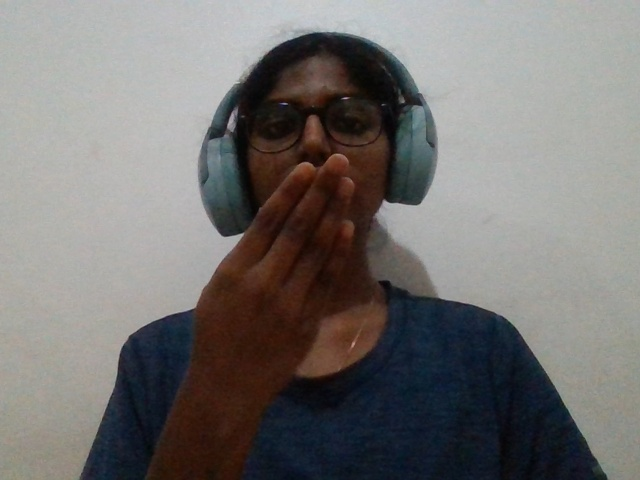Thanks: (165, 142, 379, 432)
